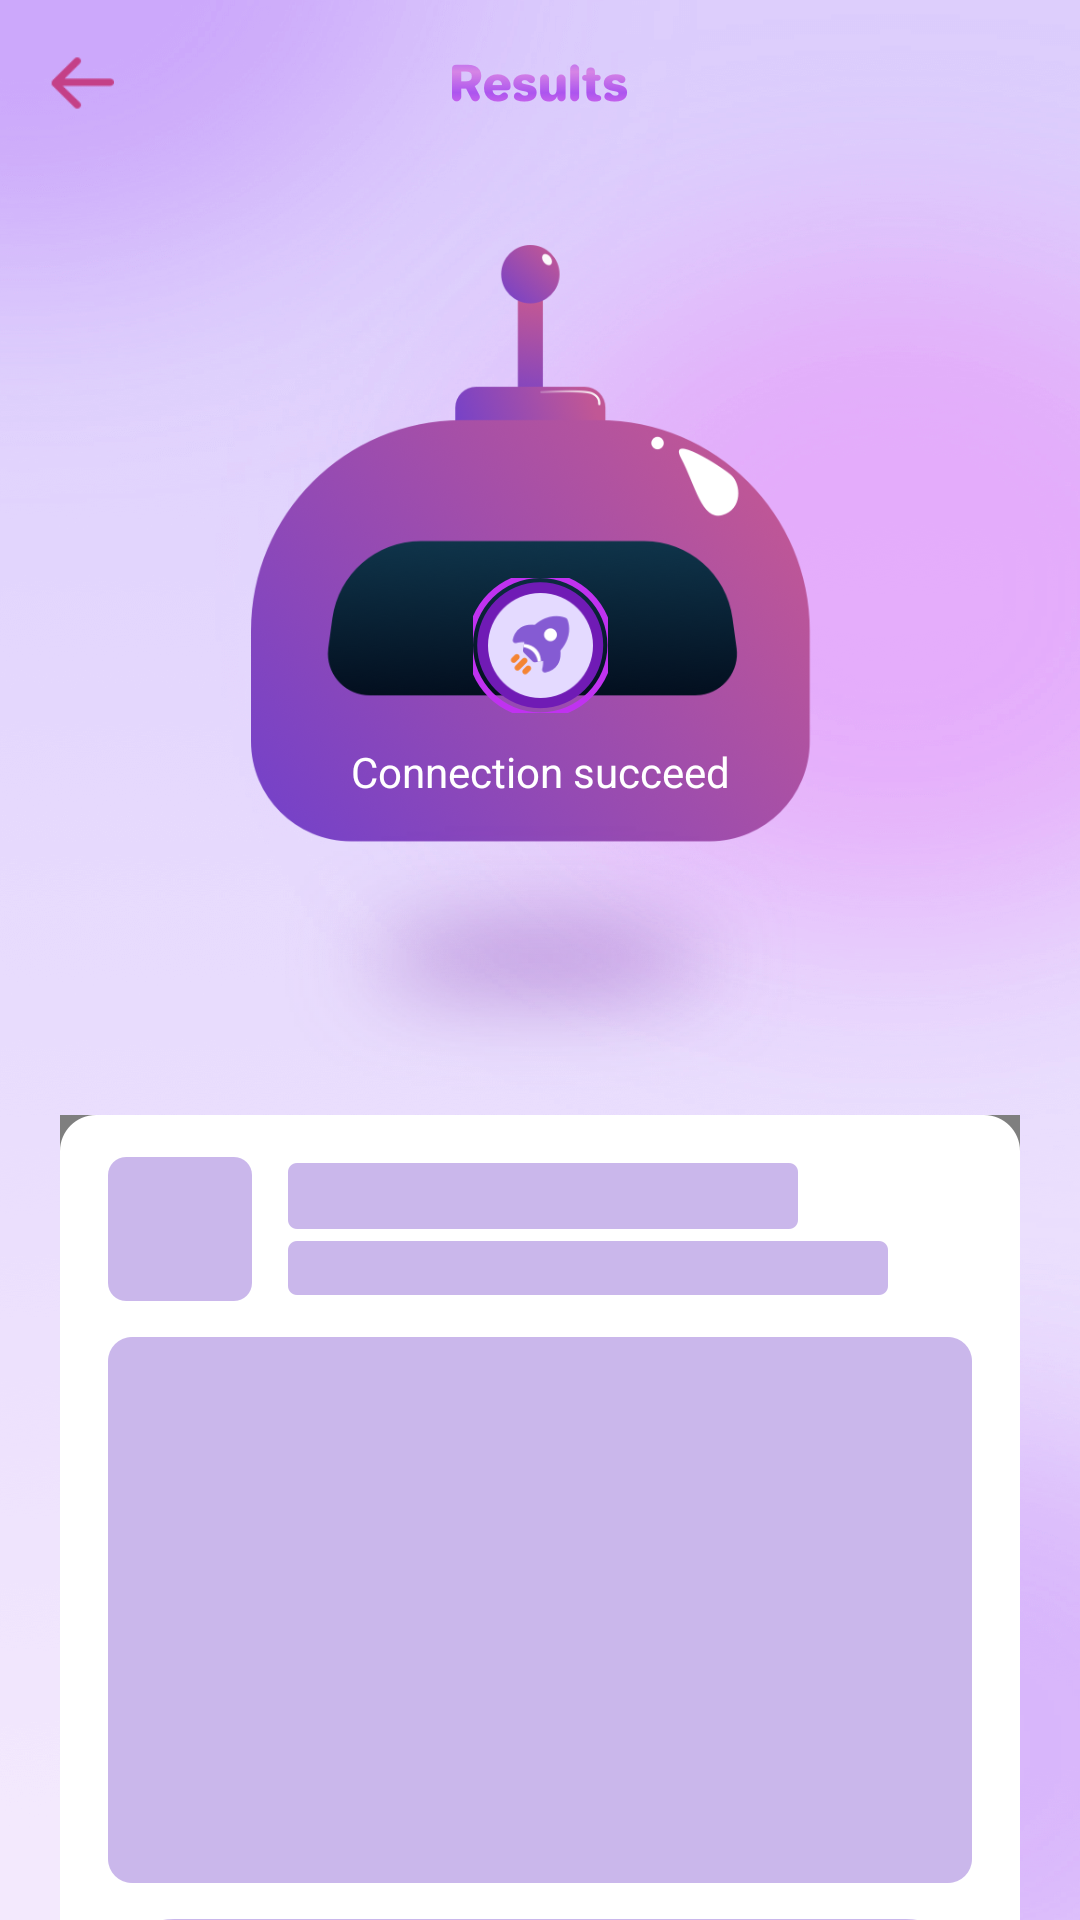

Where to tap for icons on this 1080 × 1920 app screen, as point (x, y):
back: point (82, 83)
fast: point (540, 645)
